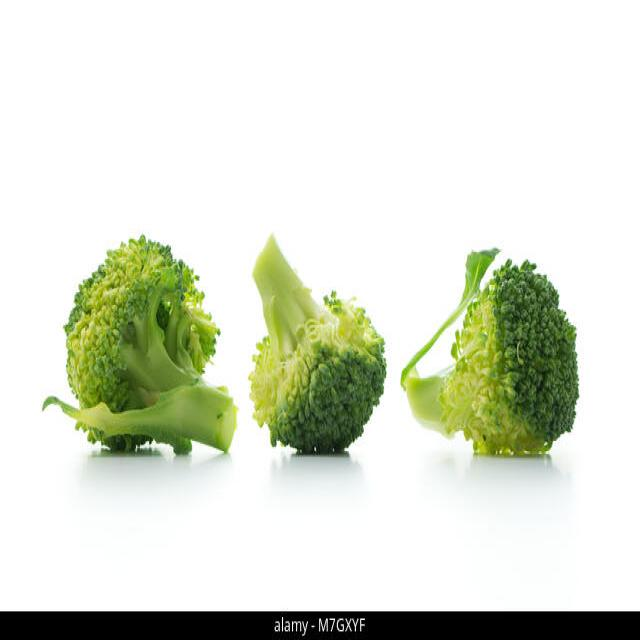broccoli: (61, 233, 241, 456), (402, 247, 582, 458), (248, 224, 388, 455)
